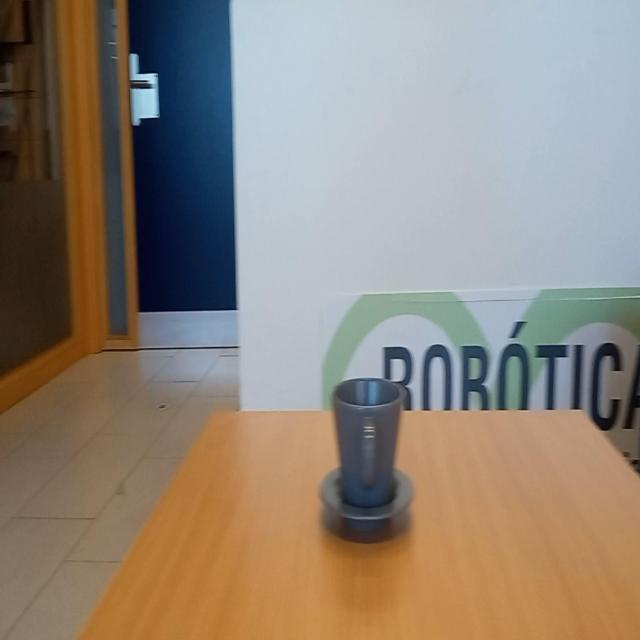cup: (319, 373, 415, 541)
